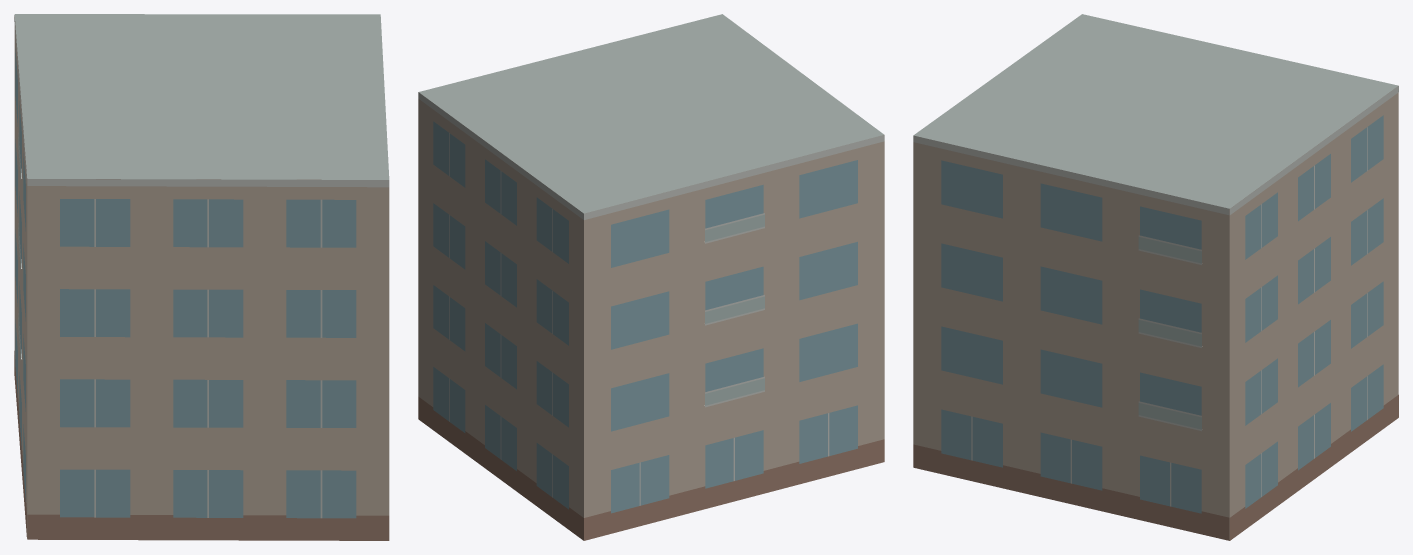
Rendered from survey-upis-32722102.glb.
3 renders of one model, left to right at view 1: azimuth 30°, elevation 25°; view 2: azimuth 150°, elevation 25°; view 3: azimuth 270°, elevation 25°, orthographic. The views are drawn at different scales.
Parts seen in each view (by area): view 1: survey-upis-32722102.tmp; view 2: survey-upis-32722102.tmp; view 3: survey-upis-32722102.tmp.
Boxes of the visible parts, x1,y1,x2,y2 form: survey-upis-32722102.tmp: [14, 14, 389, 540]; survey-upis-32722102.tmp: [418, 14, 884, 540]; survey-upis-32722102.tmp: [913, 14, 1398, 540].
Bounding box in the file's own units: 15.35 × 12.2 × 16.17.
